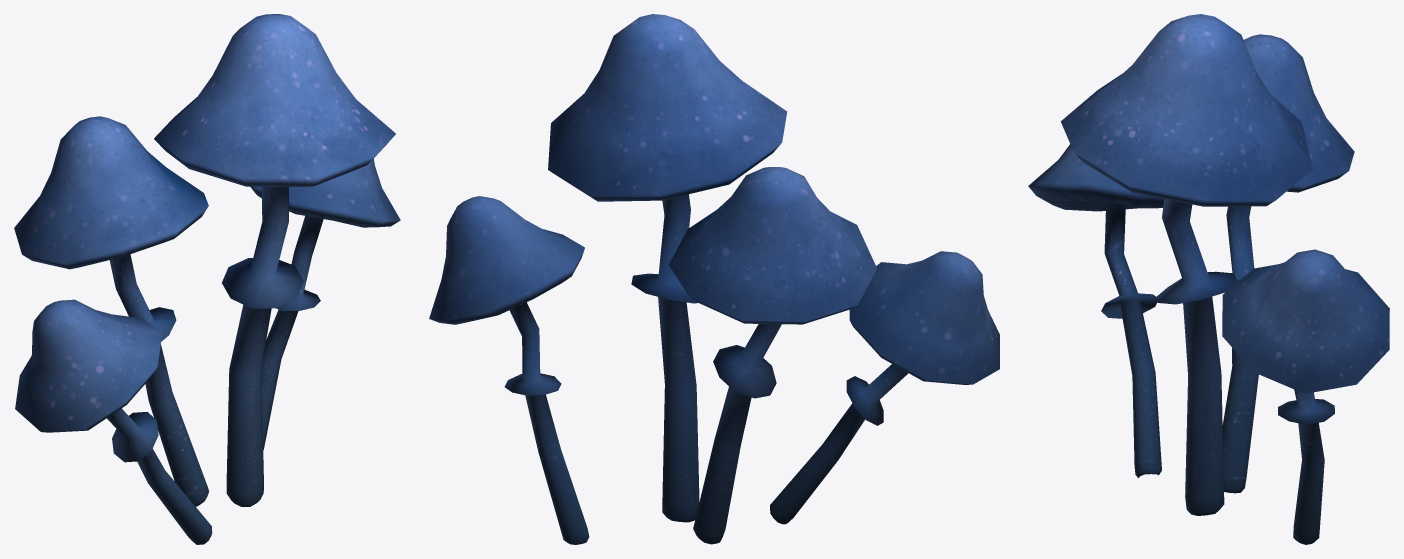
File: Mushroom_07.gltf
The picture shows the model from 3 angles, left to right: view 1: azimuth 30°, elevation 25°; view 2: azimuth 150°, elevation 25°; view 3: azimuth 270°, elevation 25°; orthographic projection. The views are drawn at different scales.
Visible parts, largest first — view 1: Mushroom_07(Clone); view 2: Mushroom_07(Clone); view 3: Mushroom_07(Clone).
Part boxes in pixels (<box>): Mushroom_07(Clone): <box>14,14,400,544</box>; Mushroom_07(Clone): <box>429,14,999,544</box>; Mushroom_07(Clone): <box>1028,14,1389,544</box>.
Bounding box in the file's own units: 13.86 × 14.4 × 9.21.
Materials: 1 (1 with a texture image).
